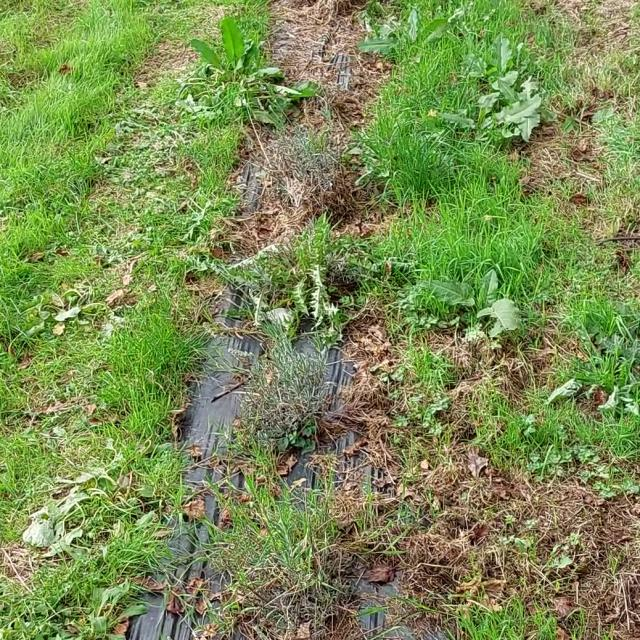organic waste: (180, 18, 306, 114), (24, 258, 128, 336), (420, 264, 525, 339), (7, 472, 102, 545), (352, 5, 469, 60), (468, 73, 552, 145), (449, 26, 539, 92), (437, 82, 511, 152)
